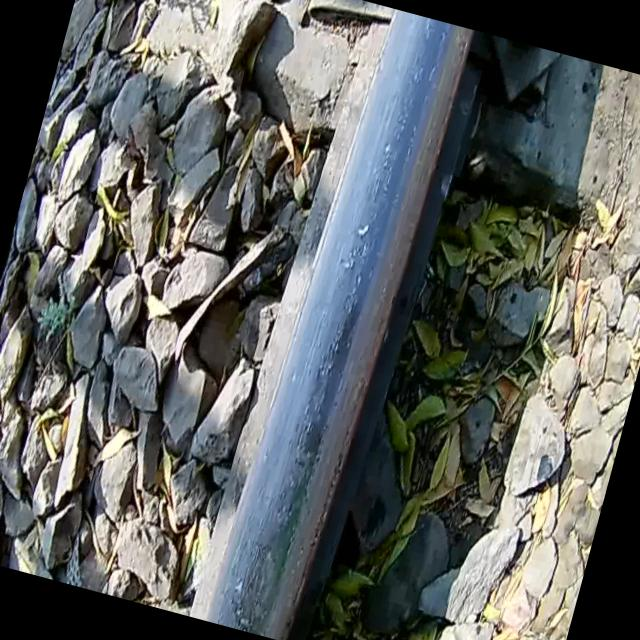Squats: (183, 503, 336, 640)
